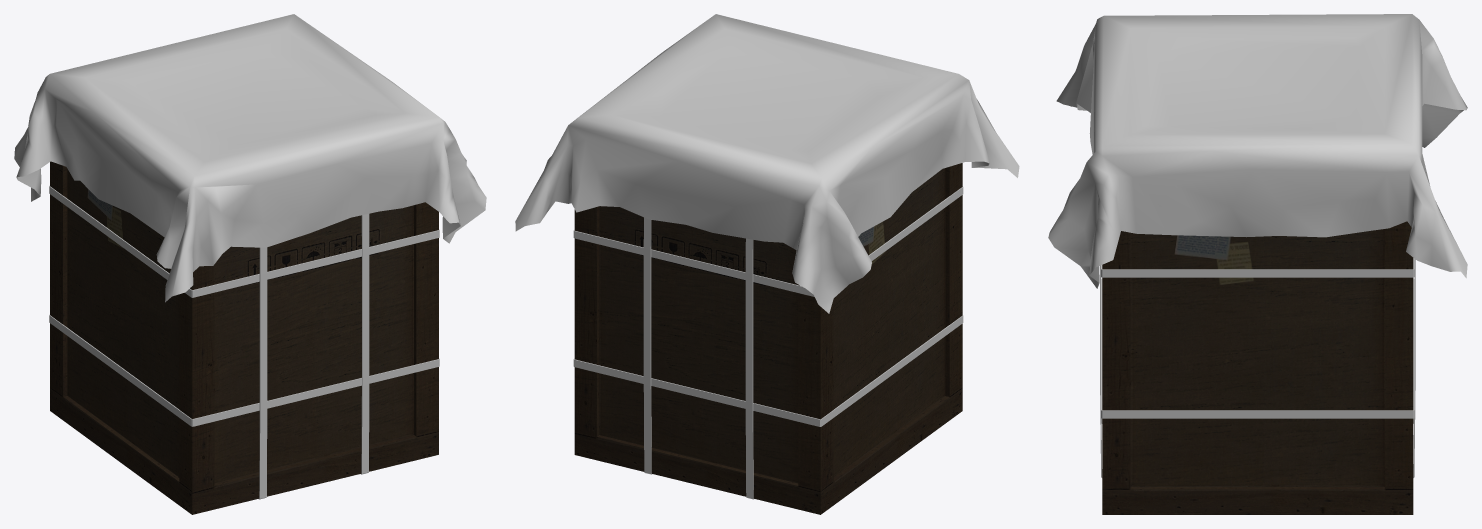
The model's file is wooden_crate_hx_1_2.fbx.
The picture shows the model from 3 angles, left to right: view 1: azimuth 30°, elevation 25°; view 2: azimuth 150°, elevation 25°; view 3: azimuth 270°, elevation 25°; orthographic projection. The views are drawn at different scales.
Visible parts, largest first — view 1: wooden_crate_hx_1_2; view 2: wooden_crate_hx_1_2; view 3: wooden_crate_hx_1_2.
Part boxes in pixels (bbox=[...]): wooden_crate_hx_1_2: bbox=[14, 14, 486, 514]; wooden_crate_hx_1_2: bbox=[515, 14, 1019, 514]; wooden_crate_hx_1_2: bbox=[1048, 14, 1467, 514].
Size of the model in its own units: 1.89 by 1.89 by 1.84.
